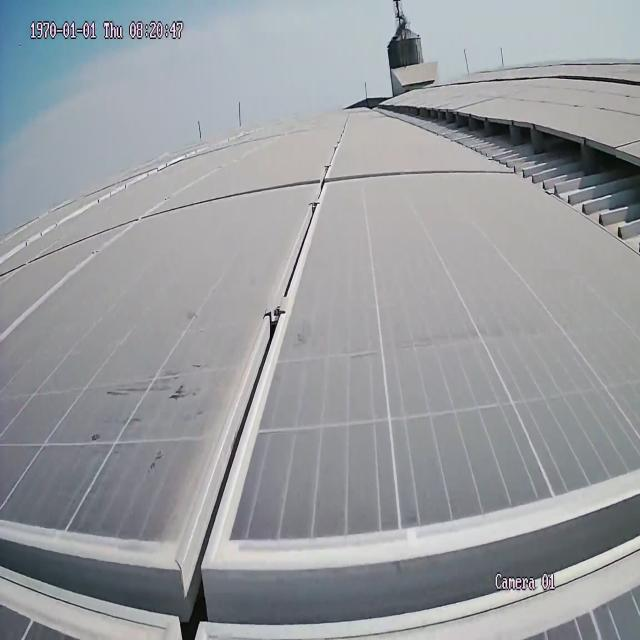interior panel: (0, 111, 640, 640)
outher panel: (364, 98, 640, 252)
